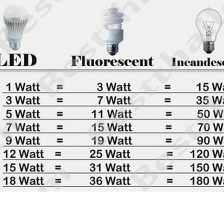light_bulb: (192, 6, 224, 55), (96, 4, 126, 56), (0, 1, 30, 52)
